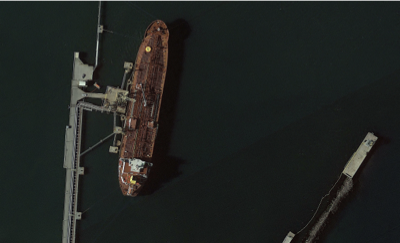boat: (117, 18, 171, 197)
